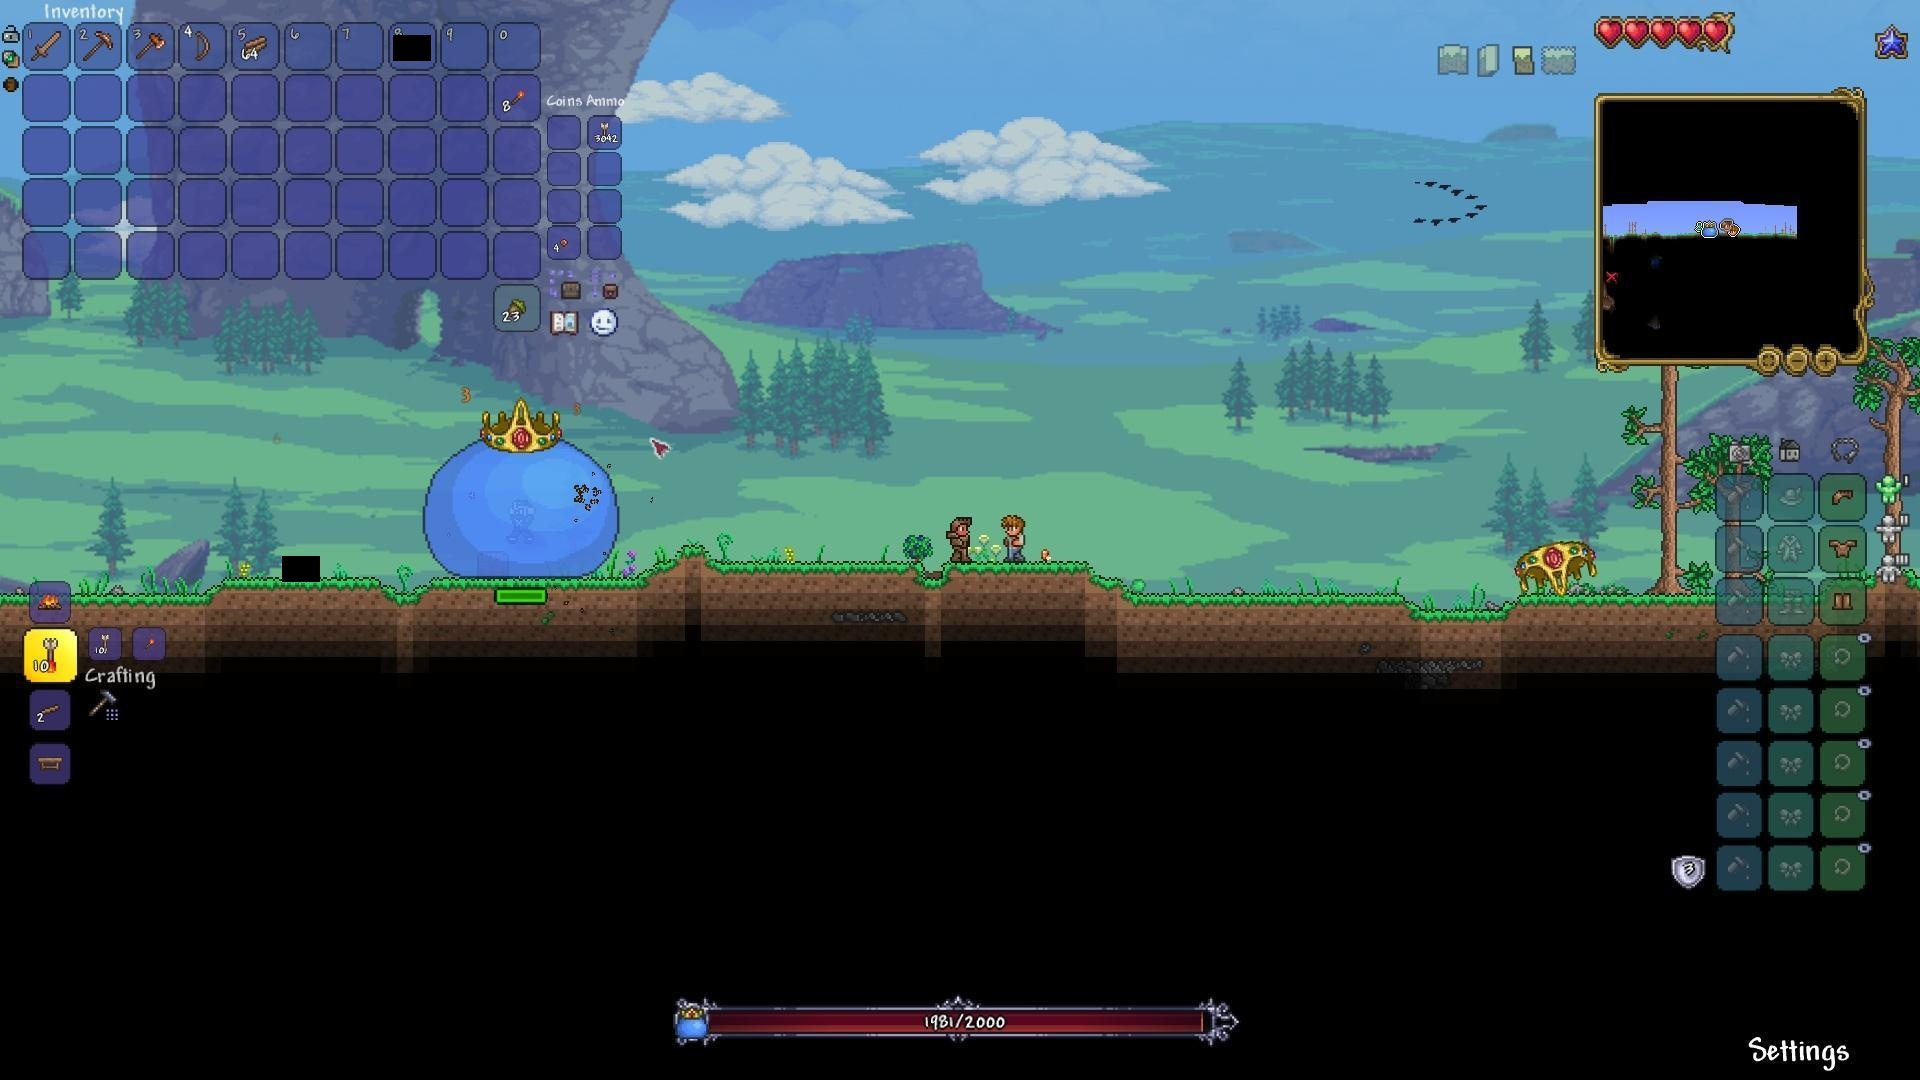breastplate: (1829, 538, 1859, 559)
helmet: (1826, 483, 1858, 512)
legs: (1832, 589, 1857, 616)
wood: (243, 34, 272, 61)
workbench: (36, 753, 67, 775)
